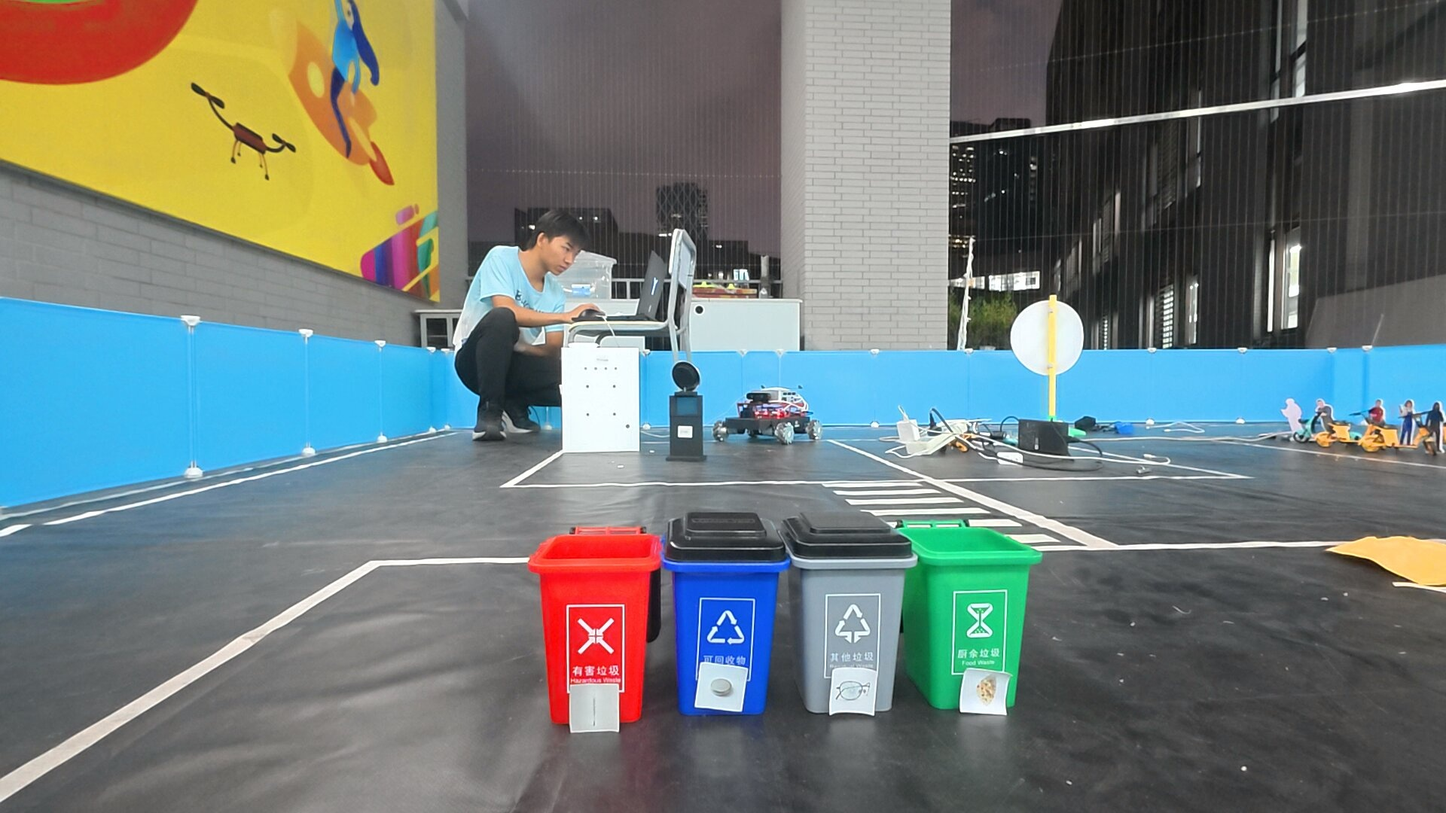food_trash: (963, 666, 1010, 717)
hazardous_trash: (571, 683, 619, 732), (695, 662, 743, 708)
other_trash: (830, 666, 877, 716)
